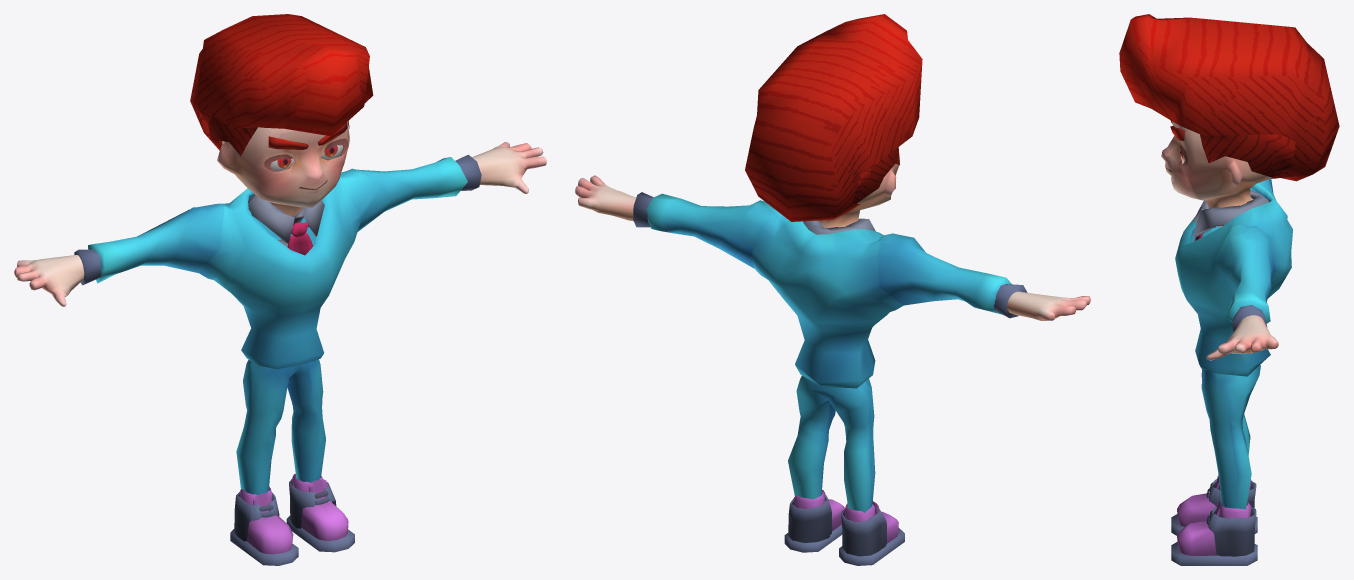
File: manager3_cha.fbx
3 renders of one model, left to right at view 1: azimuth 30°, elevation 25°; view 2: azimuth 150°, elevation 25°; view 3: azimuth 270°, elevation 25°, orthographic. The views are drawn at different scales.
Visible parts, largest first — view 1: Retopo_manager2_low.007; view 2: Retopo_manager2_low.007; view 3: Retopo_manager2_low.007.
Boxes of the visible parts, <box> form: Retopo_manager2_low.007: <box>14,14,546,565</box>; Retopo_manager2_low.007: <box>575,14,1090,565</box>; Retopo_manager2_low.007: <box>1119,14,1339,565</box>.
Size of the model in its own units: 306 by 289 by 110.
